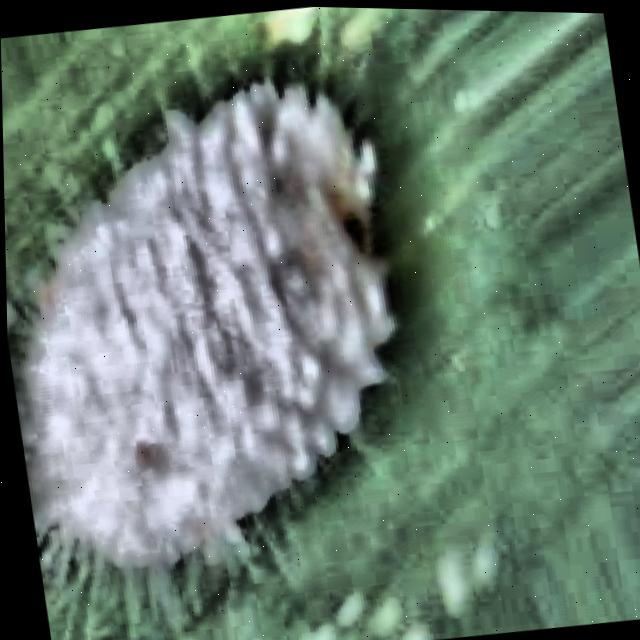Mealy-bug: (0, 6, 598, 640)
